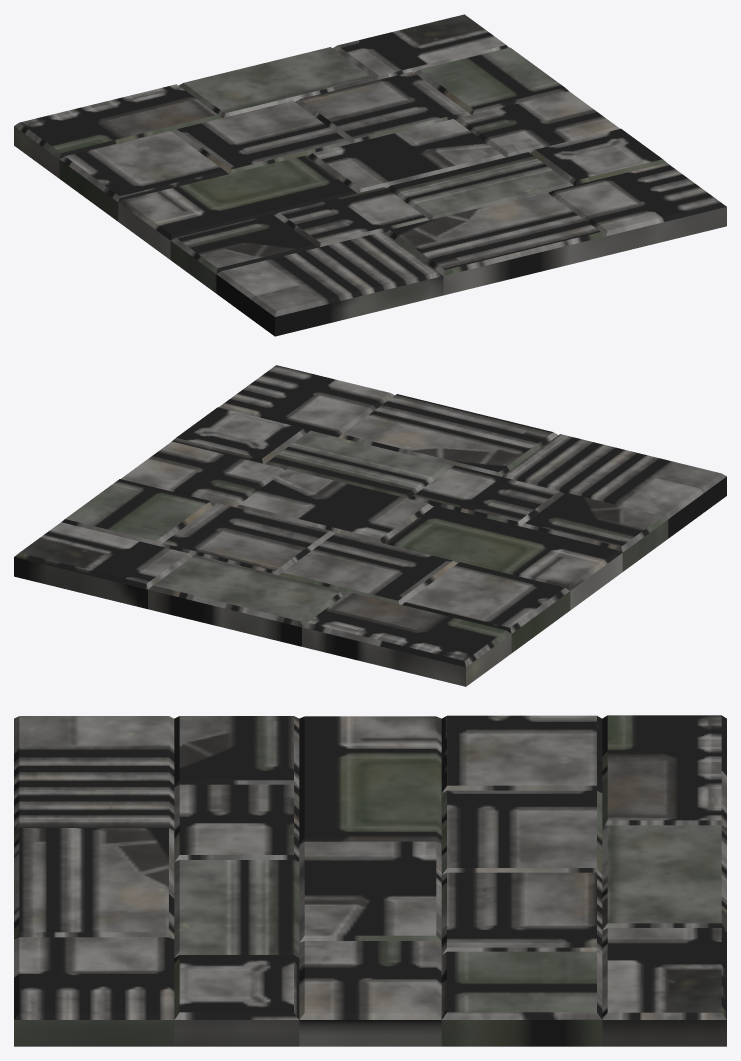
Rendered from dalle_sol.fbx.
The picture shows the model from 3 angles, top to bottom: view 1: azimuth 30°, elevation 25°; view 2: azimuth 150°, elevation 25°; view 3: azimuth 270°, elevation 25°; orthographic projection. The views are drawn at different scales.
Parts seen in each view (by area): view 1: dalle_sol; view 2: dalle_sol; view 3: dalle_sol.
Part boxes in pixels (left/top/right/bottom): dalle_sol: left=14, top=14, right=726, bottom=336; dalle_sol: left=14, top=365, right=726, bottom=686; dalle_sol: left=14, top=715, right=726, bottom=1046.
Bounding box in the file's own units: 4 × 0.1997 × 4.
1 material, 1 textured.
